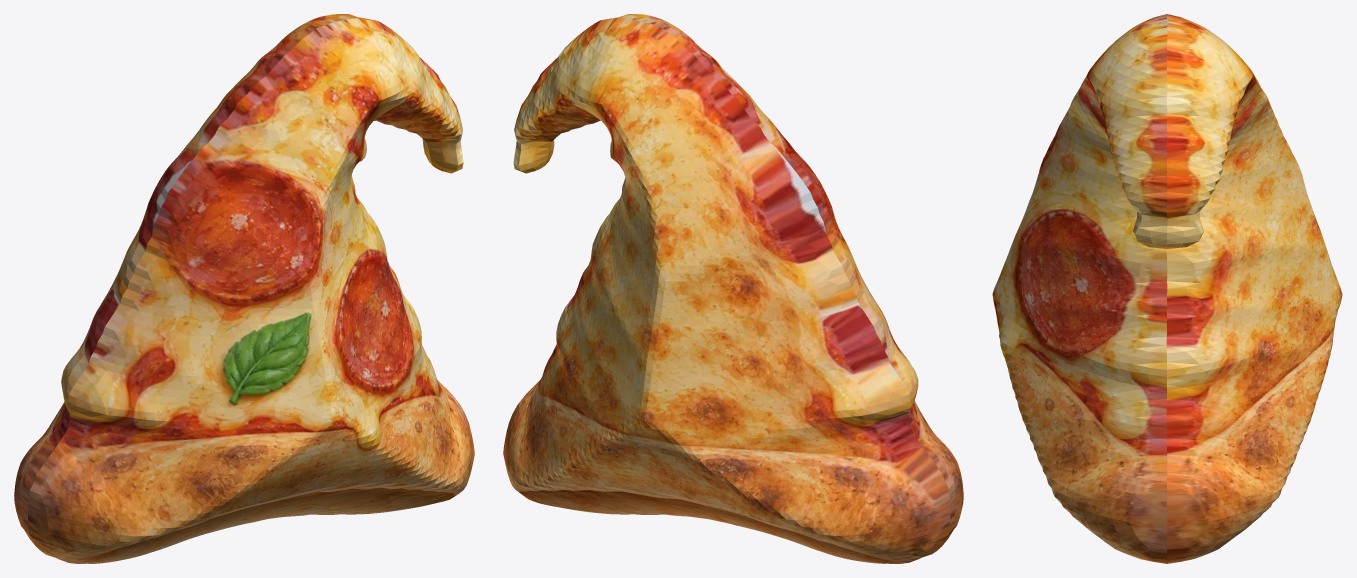
Rendered from pizza_hat.glb.
3 views of the same model, side by side, from view 1: azimuth 30°, elevation 25°; view 2: azimuth 150°, elevation 25°; view 3: azimuth 270°, elevation 25° (orthographic).
Parts seen in each view (by area): view 1: geometry_0; view 2: geometry_0; view 3: geometry_0.
Boxes of the visible parts, left/top/right/bottom form: geometry_0: left=14, top=14, right=474, bottom=563; geometry_0: left=503, top=14, right=963, bottom=563; geometry_0: left=992, top=14, right=1342, bottom=563.
Size of the model in its own units: 0.9026 by 0.9816 by 0.631.
Materials: 1 (1 with a texture image).
